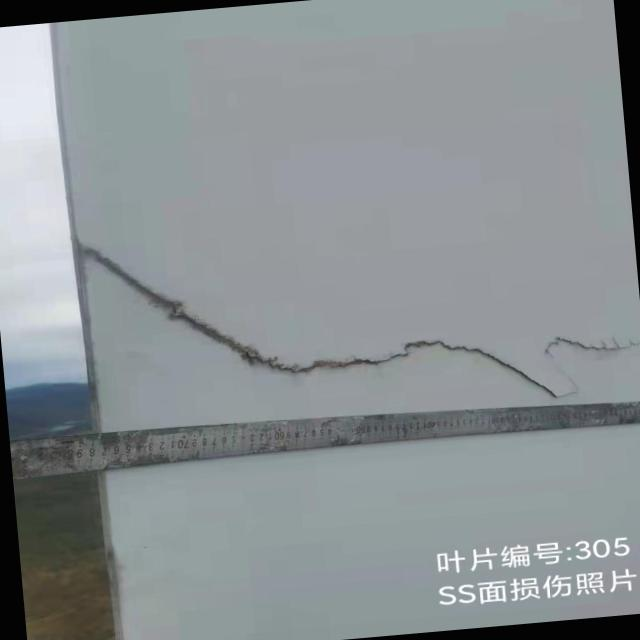crack: (85, 226, 359, 392), (366, 314, 631, 414)
